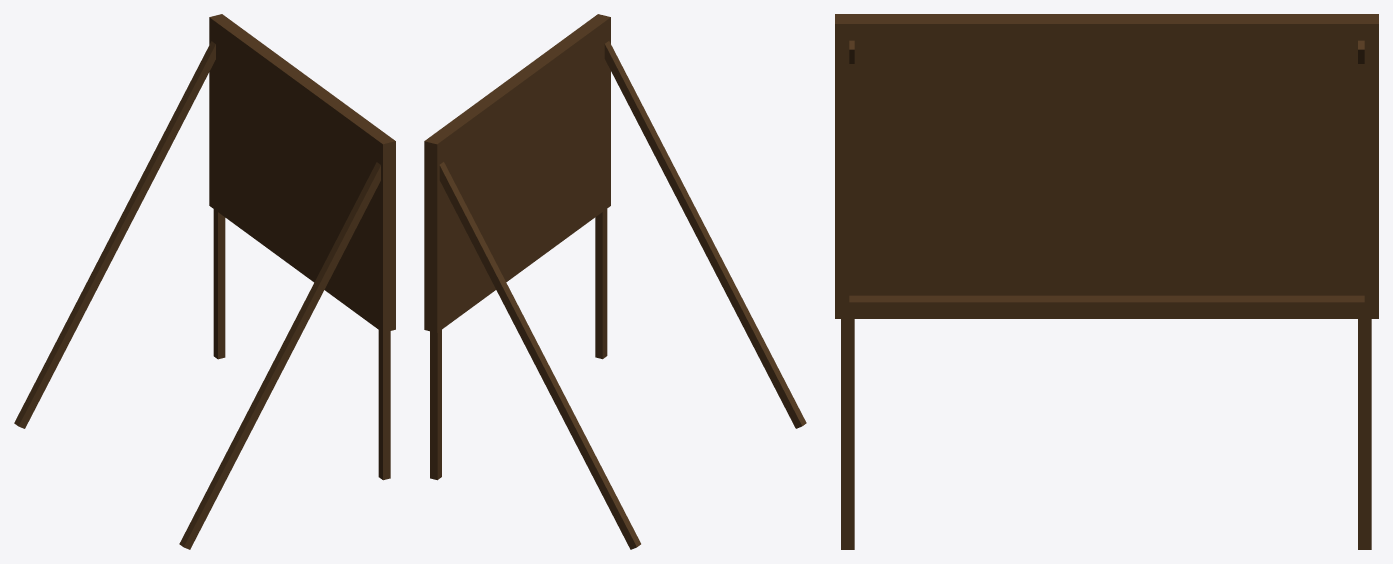
The model's file is billboard_stand.fbx.
The picture shows the model from 3 angles, left to right: view 1: azimuth 30°, elevation 25°; view 2: azimuth 150°, elevation 25°; view 3: azimuth 270°, elevation 25°; orthographic projection. The views are drawn at different scales.
Parts seen in each view (by area): view 1: Cube.154; view 2: Cube.154; view 3: Cube.154.
Part boxes in pixels (x1,y1,x2,y2): Cube.154: (14, 14, 395, 549); Cube.154: (424, 14, 806, 549); Cube.154: (835, 14, 1378, 549).
Bounding box in the file's own units: 1024 × 1676 × 1464.
